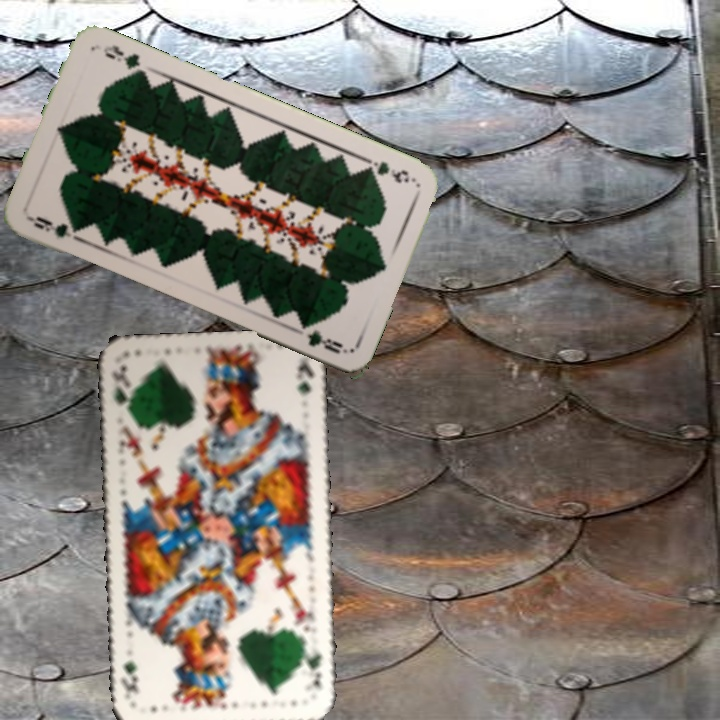G9: (359, 154, 419, 186), (24, 212, 83, 243)
GK: (108, 361, 133, 419), (301, 643, 325, 690)
